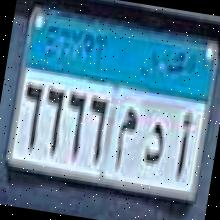6: (80, 92, 111, 166), (15, 82, 44, 152), (37, 88, 67, 153), (60, 91, 88, 159)
alif: (167, 108, 198, 182)
daal: (141, 116, 172, 166)
meem: (106, 104, 142, 173)
